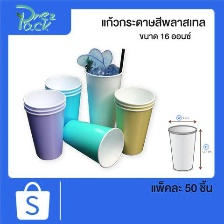paper_cup: (19, 85, 69, 163), (57, 115, 127, 170), (110, 83, 158, 157), (81, 60, 124, 136), (41, 72, 83, 131), (163, 121, 199, 173)
